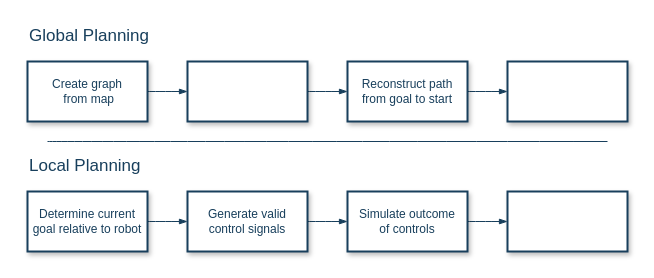
Image size: 654x278. Some labels were removed from this diagram. The shapes that lost their labels are listed below. From the top down, each one's centre as x and y in pixels, then its label:
pixel 248 92: Run search algorithm
pixel 568 92: Publish path to move_base
pixel 568 222: Publish best control and estimated trajectory
